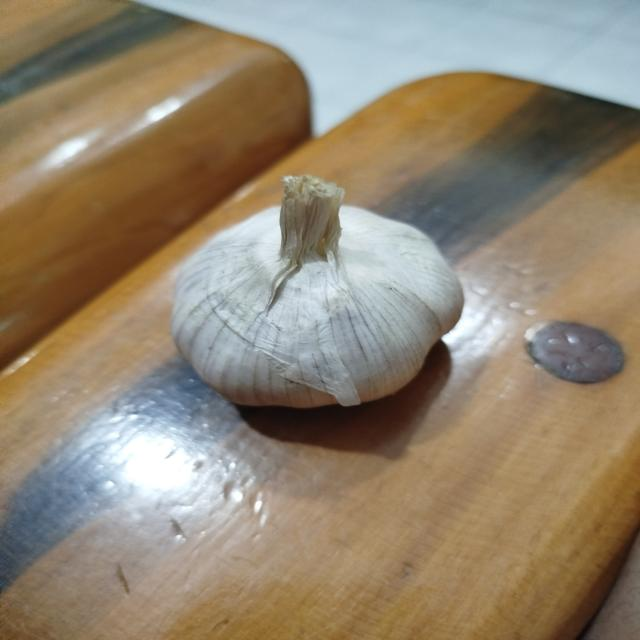garlic: (169, 173, 465, 409)
